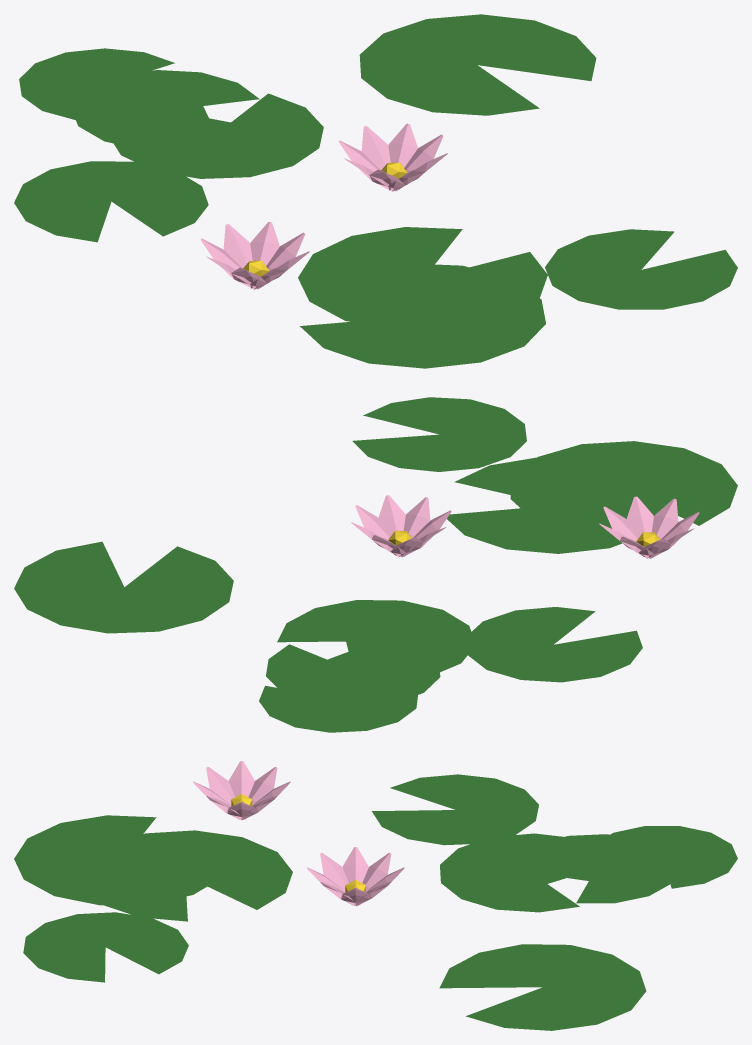
The model's file is SW_Plant_LilyPads.obj.
The picture shows the model from 3 angles, top to bottom: view 1: azimuth 30°, elevation 25°; view 2: azimuth 150°, elevation 25°; view 3: azimuth 270°, elevation 25°; orthographic projection. The views are drawn at different scales.
Visible parts, largest first — view 1: pad_3, pad_0, pad_4, pad_5, pad_6, pad_7, pad_2, pad_1, petal_0_7, petal_1_7, petal_0_6, petal_1_6 (+2 smaller); view 2: pad_0, pad_3, pad_4, pad_5, pad_6, pad_7, pad_2, pad_1, petal_1_1, petal_0_1, petal_0_2, petal_1_2; view 3: pad_3, pad_0, pad_4, pad_5, pad_6, pad_7, pad_2, pad_1, petal_0_4, petal_1_4, petal_1_3, petal_0_3 (+2 smaller).
Part boxes in pixels (bbox=[...]): pad_3: bbox=[298, 227, 547, 331]; pad_0: bbox=[359, 14, 596, 115]; pad_4: bbox=[108, 89, 323, 178]; pad_5: bbox=[14, 161, 208, 242]; pad_6: bbox=[545, 229, 737, 309]; pad_7: bbox=[19, 48, 192, 121]; pad_2: bbox=[300, 264, 545, 368]; pad_1: bbox=[76, 70, 259, 143]; petal_0_7: bbox=[388, 123, 417, 167]; petal_1_7: bbox=[250, 222, 279, 265]; petal_0_6: bbox=[361, 126, 390, 190]; petal_1_6: bbox=[223, 224, 252, 268]; pad_0: bbox=[14, 541, 233, 633]; pad_3: bbox=[447, 457, 667, 553]; pad_4: bbox=[277, 600, 471, 680]; pad_5: bbox=[465, 607, 642, 682]; pad_6: bbox=[352, 397, 526, 471]; pad_7: bbox=[259, 665, 418, 732]; pad_2: bbox=[510, 441, 737, 525]; pad_1: bbox=[266, 641, 440, 698]; petal_1_1: bbox=[627, 496, 653, 536]; petal_0_1: bbox=[378, 495, 405, 535]; petal_0_2: bbox=[403, 497, 430, 537]; petal_1_2: bbox=[652, 498, 678, 557]; pad_3: bbox=[79, 830, 292, 921]; pad_0: bbox=[439, 944, 646, 1030]; pad_4: bbox=[440, 833, 620, 912]; pad_5: bbox=[372, 774, 538, 845]; pad_6: bbox=[23, 912, 188, 982]; pad_7: bbox=[587, 826, 737, 888]; pad_2: bbox=[14, 815, 206, 905]; pad_1: bbox=[532, 834, 670, 903]; petal_0_4: bbox=[342, 847, 368, 882]; petal_1_4: bbox=[228, 761, 254, 796]; petal_1_3: bbox=[206, 767, 239, 819]; petal_0_3: bbox=[320, 853, 353, 905].
Bounding box in the file's own units: 7.41 × 0.5246 × 8.9.
